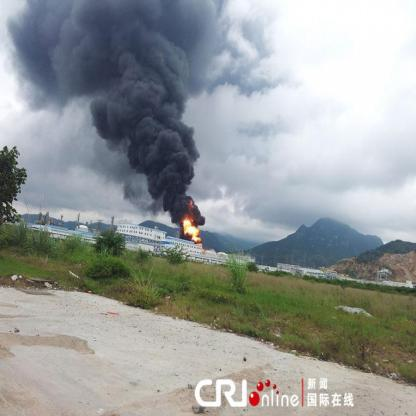fire: (180, 211, 202, 248)
smoke: (31, 4, 215, 103), (94, 95, 205, 202)
